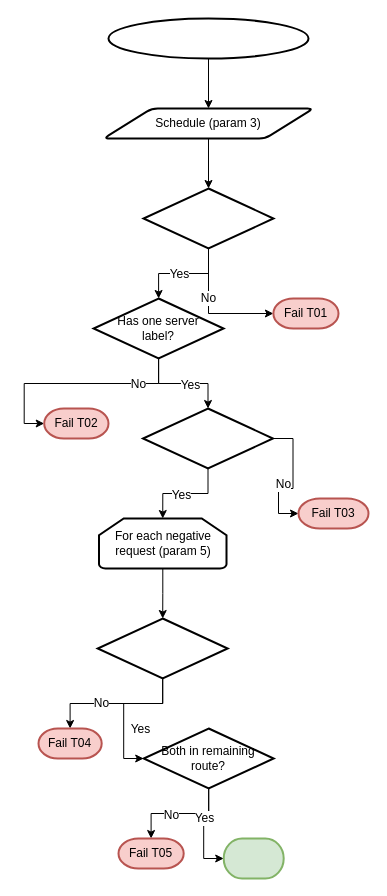
Image size: 387x896. Some labels were removed from this diagram. The shapes that lost their labels are listed below. From the top down, each one's centre as x and y in pixels, then its label:
(208,38): Call DBUpdateServerService(5)
(208,218): Is a route (param 2) subsequence?
(208,438): Server label at server dest?
(162,648): Exactly zero labels?
(253,858): Success
